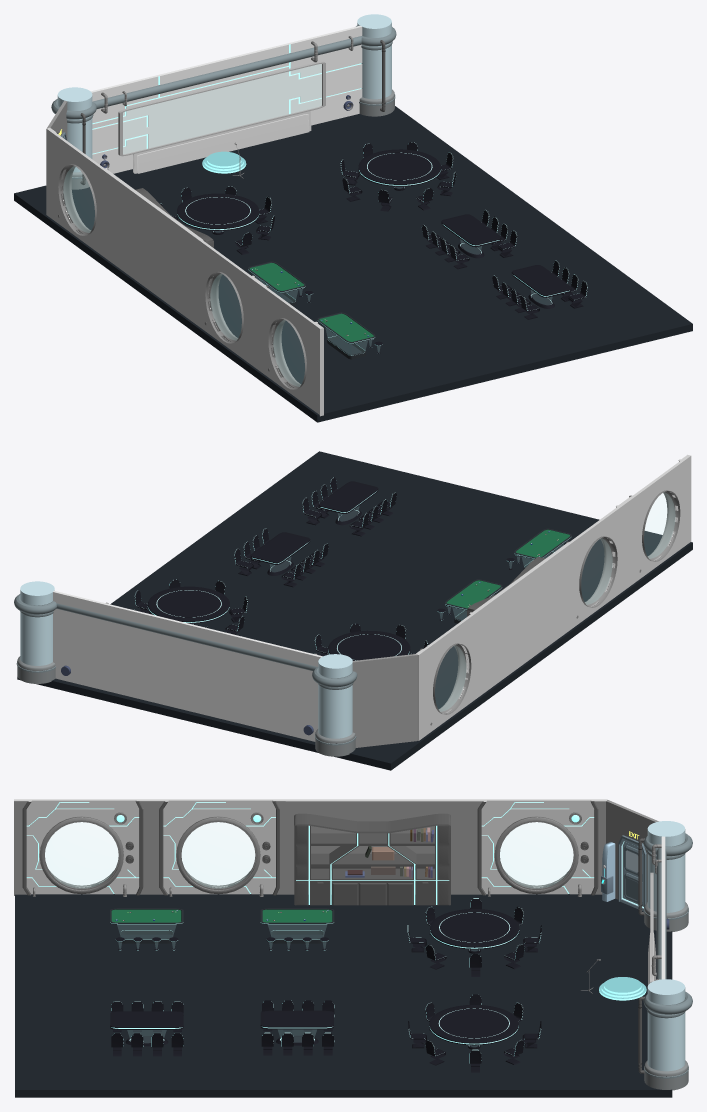
Rendered from room.glb.
3 renders of one model, top to bottom at view 1: azimuth 30°, elevation 25°; view 2: azimuth 150°, elevation 25°; view 3: azimuth 270°, elevation 25°, orthographic. The views are drawn at different scales.
Visible parts, largest first — view 1: floor, Cube.001, Cube.012, Cube.021, Cube.049, Cube.002, Cube.022, Cylinder.019, Cylinder.102, Cylinder.071, Cylinder.034, Cylinder.014 (+10 smaller); view 2: floor, Cube.001, Cube.012, Cube.008, Cube.049, Cube.002, Cylinder.014, Cylinder.019, Cylinder.102, Cylinder.071, Cylinder.034, Sphere.011 (+9 smaller); view 3: floor, Cube.012, Cube.023, Cube.049, Cube.002, Cylinder.019, Sphere.004, Sphere.011, Sphere.002, Cylinder.014, Cylinder.071, Cylinder.102 (+14 smaller).
Boxes of the visible parts, x1,y1,x2,y2 form: floor: [14, 106, 692, 422]; Cube.001: [91, 25, 362, 173]; Cube.012: [46, 127, 196, 321]; Cube.021: [118, 61, 325, 156]; Cube.049: [256, 282, 323, 416]; Cube.002: [193, 235, 260, 368]; Cube.022: [137, 114, 309, 173]; Cylinder.019: [357, 14, 395, 116]; Cylinder.102: [358, 149, 441, 186]; Cylinder.071: [177, 193, 259, 230]; Cylinder.034: [92, 36, 361, 108]; Cylinder.014: [57, 87, 93, 189]; floor: [17, 451, 692, 770]; Cube.001: [53, 590, 322, 741]; Cube.012: [415, 547, 564, 740]; Cube.008: [352, 654, 417, 747]; Cube.049: [625, 454, 691, 587]; Cube.002: [562, 501, 627, 633]; Cylinder.014: [315, 654, 356, 756]; Cylinder.019: [16, 581, 55, 683]; Cylinder.102: [147, 586, 229, 623]; Cylinder.071: [328, 630, 410, 660]; Cylinder.034: [56, 603, 316, 670]; Sphere.011: [644, 493, 674, 558]; floor: [15, 894, 672, 1097]; Cube.012: [285, 799, 606, 895]; Cube.023: [294, 813, 450, 905]; Cube.049: [14, 799, 151, 895]; Cube.002: [150, 799, 288, 895]; Cylinder.019: [644, 979, 688, 1090]; Sphere.004: [500, 822, 572, 887]; Sphere.011: [45, 822, 117, 887]; Sphere.002: [182, 822, 254, 887]; Cylinder.014: [644, 821, 688, 931]; Cylinder.071: [430, 909, 519, 949]; Cylinder.102: [429, 1004, 518, 1045].
Bounding box in the file's own units: 25.43 × 5.96 × 36.16.
